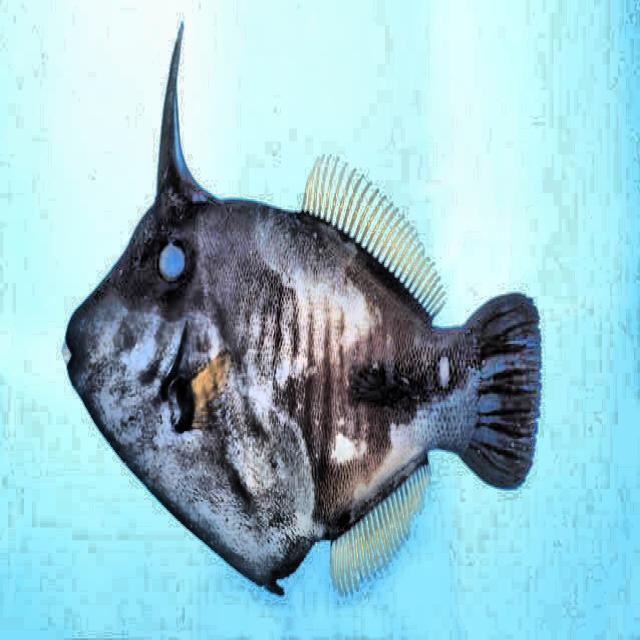fish: (62, 14, 536, 601)
